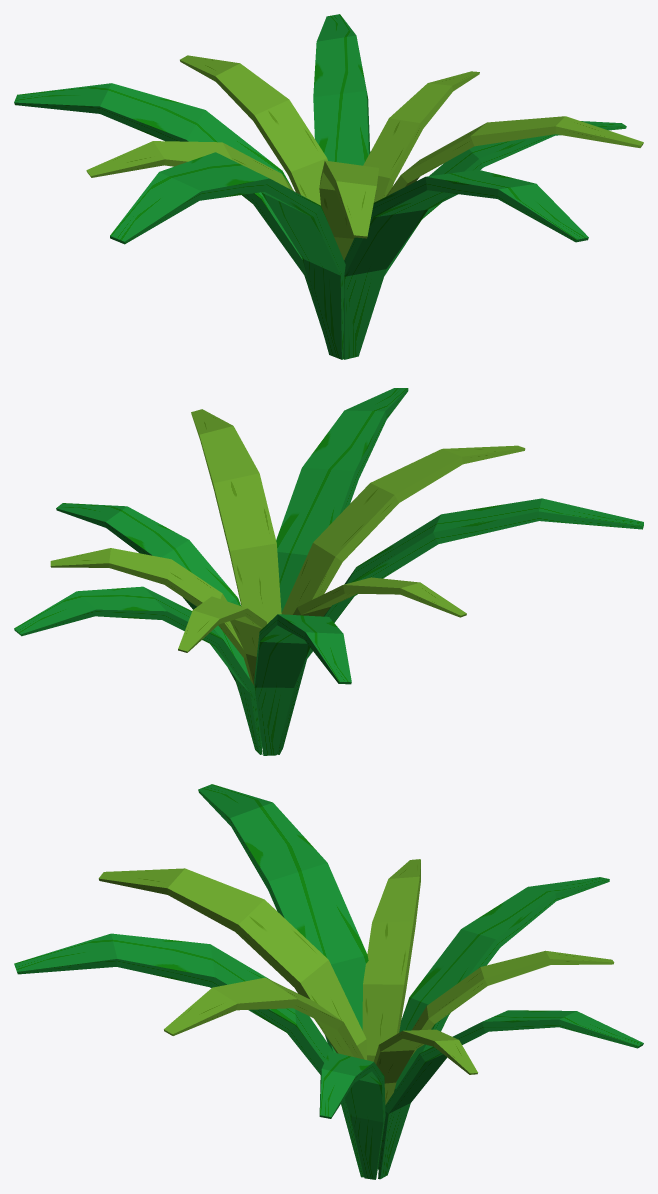
File: Grass.fbx
3 renders of one model, top to bottom at view 1: azimuth 30°, elevation 25°; view 2: azimuth 150°, elevation 25°; view 3: azimuth 270°, elevation 25°, orthographic. The views are drawn at different scales.
Visible parts, largest first — view 1: Plant; view 2: Plant; view 3: Plant.
Boxes of the visible parts, box(x1,y1,x2,y2) form: Plant: box(14, 14, 643, 359); Plant: box(14, 388, 643, 755); Plant: box(14, 784, 643, 1179).
Bounding box in the file's own units: 33.3 × 15.42 × 33.62.
2 materials, 2 textured.
